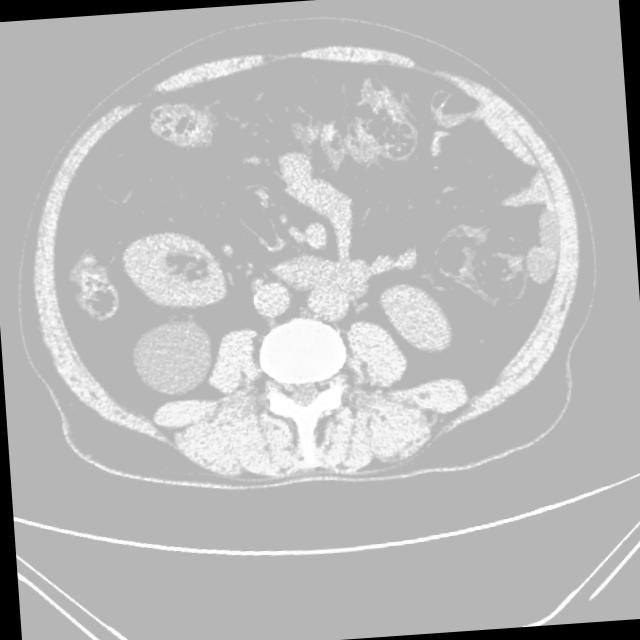cysts: (15, 23, 597, 501)
